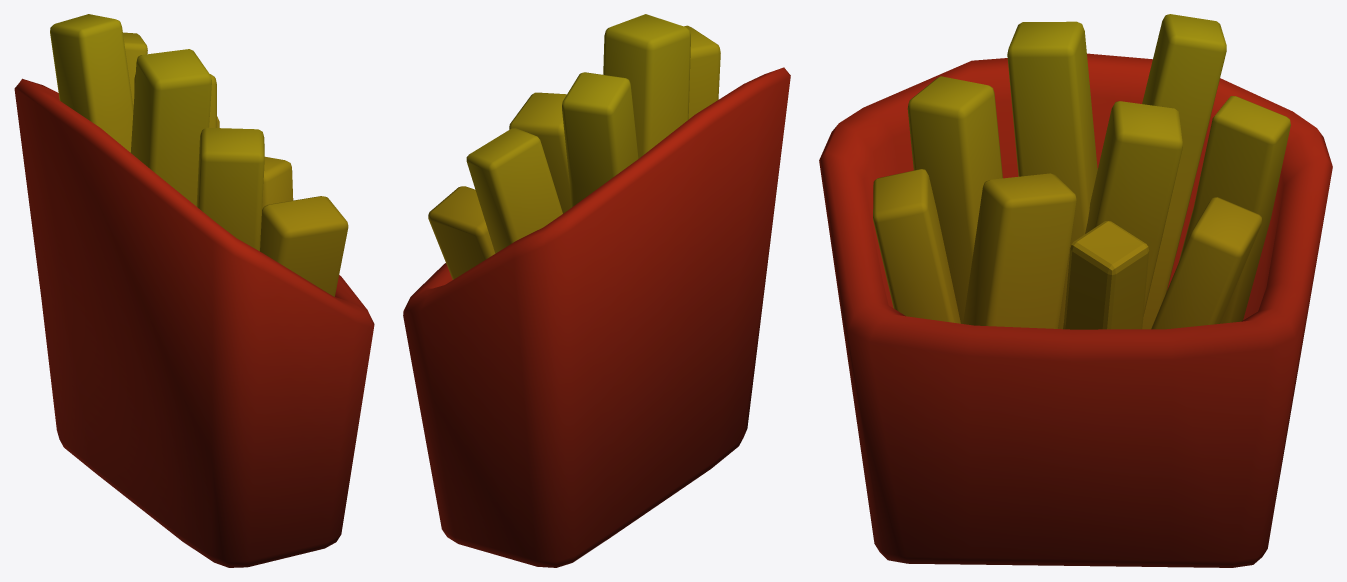
The model's file is fries 1.glb.
3 views of the same model, side by side, from view 1: azimuth 30°, elevation 25°; view 2: azimuth 150°, elevation 25°; view 3: azimuth 270°, elevation 25° (orthographic). The views are drawn at different scales.
Parts seen in each view (by area): view 1: geometry_0; view 2: geometry_0; view 3: geometry_0.
Part boxes in pixels (left/top/right/bottom): geometry_0: left=14, top=14, right=374, bottom=567; geometry_0: left=403, top=14, right=790, bottom=567; geometry_0: left=819, top=14, right=1332, bottom=567.
Size of the model in its own units: 0.065 by 0.1256 by 0.1202.
Materials: 1 (1 with a texture image).
